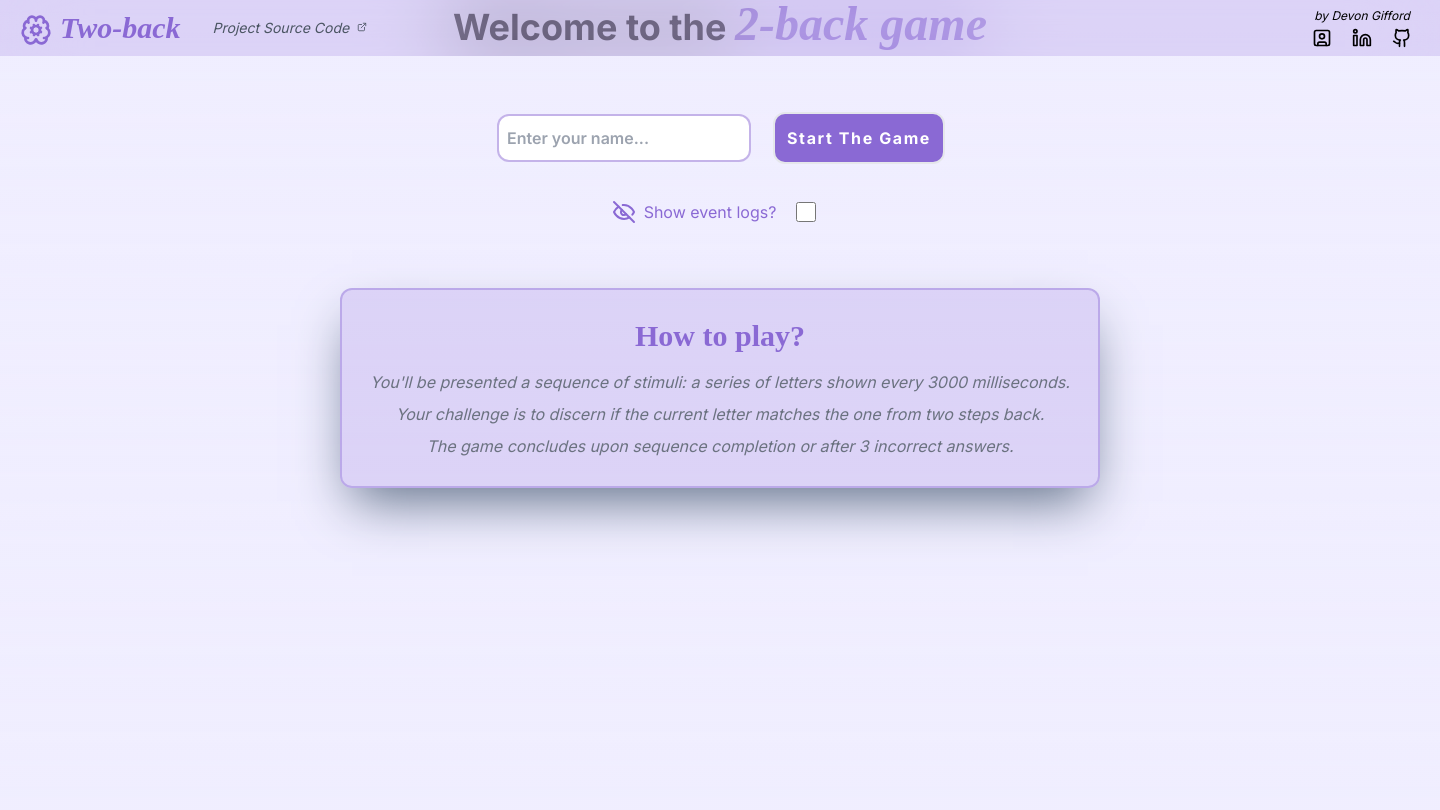
Test: Toggle Event Logs Test › Toggle on, results in toast
Step 1. Click the checkbox → click(806, 212), box [796, 202, 816, 222]
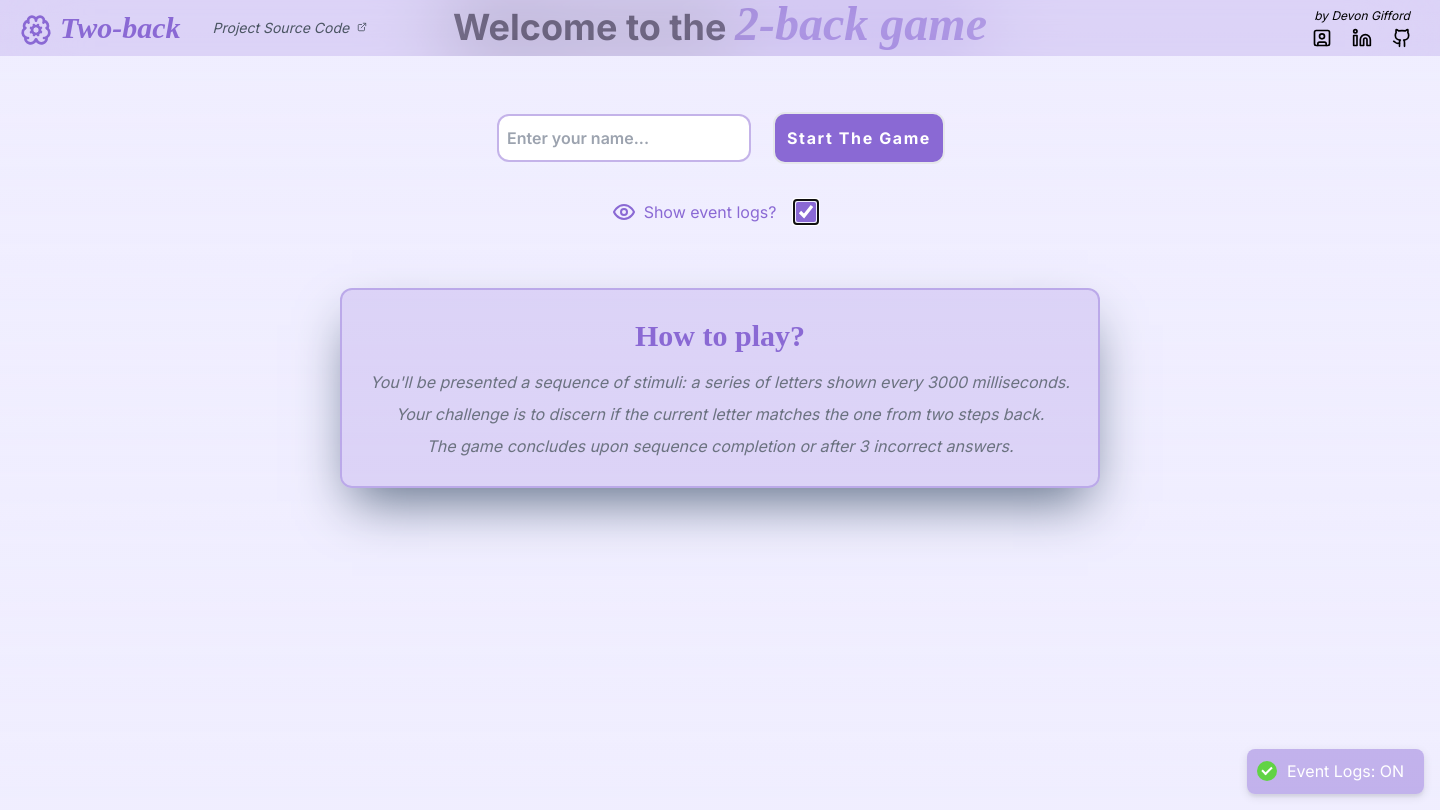
Now the checkbox is checked, box [796, 202, 816, 222]
Now the text "Event Logs: ON" is shown, box [1287, 761, 1404, 782]
